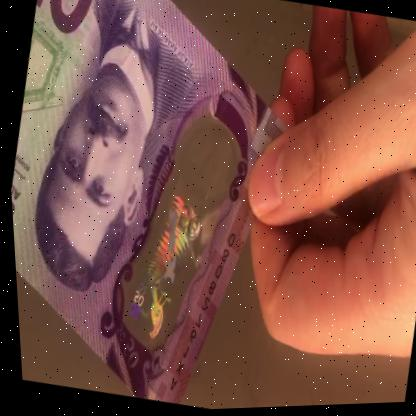50F: (110, 123, 226, 350)
